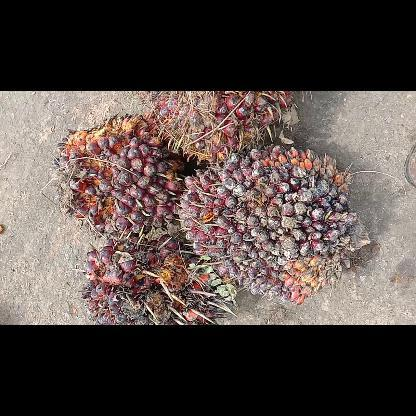Kurang masak: (174, 141, 374, 305), (137, 91, 297, 167)
TBS masak: (47, 111, 190, 237), (80, 232, 232, 324)
